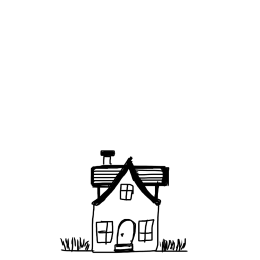bottom_placed_house: (1, 4, 260, 260)
chimney: (98, 147, 118, 168)
closed_window: (94, 218, 115, 247), (136, 216, 156, 246), (114, 182, 137, 205)
door: (113, 216, 138, 254)
roof: (86, 155, 169, 211)
small_house: (2, 2, 260, 260)
wall: (89, 191, 162, 256)
